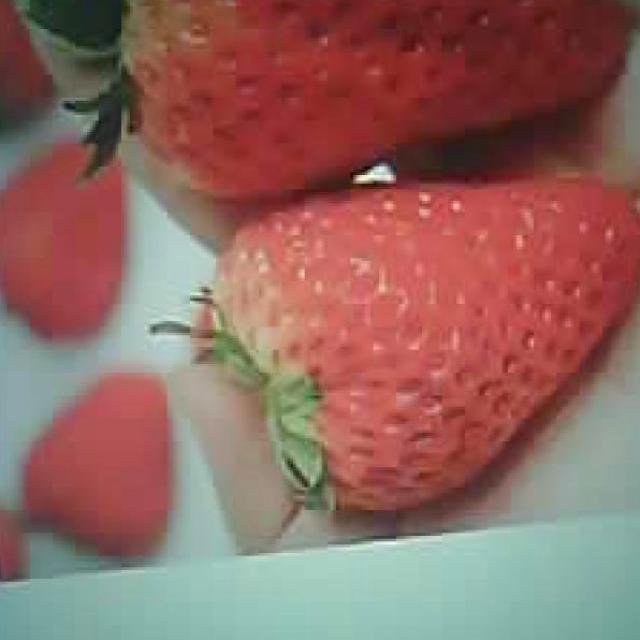Healthy Fruit: (208, 171, 638, 513), (117, 0, 632, 201)
